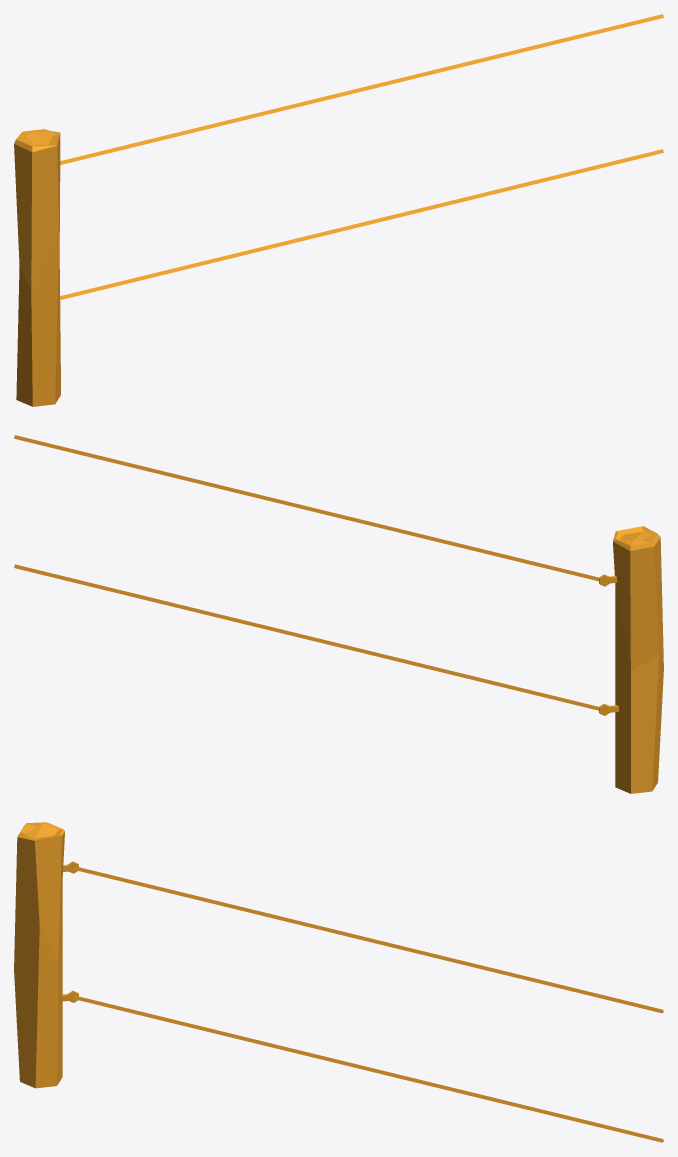
Rendered from SM_Fence_Electric_3m_A.fbx.
The picture shows the model from 3 angles, top to bottom: view 1: azimuth 30°, elevation 25°; view 2: azimuth 150°, elevation 25°; view 3: azimuth 330°, elevation 25°; orthographic projection. The views are drawn at different scales.
Parts seen in each view (by area): view 1: fence-electric-3m-a; view 2: fence-electric-3m-a; view 3: fence-electric-3m-a.
Part boxes in pixels (left/top/right/bottom): fence-electric-3m-a: left=14, top=14, right=663, bottom=406; fence-electric-3m-a: left=14, top=435, right=663, bottom=793; fence-electric-3m-a: left=14, top=822, right=663, bottom=1142.
Bounding box in the file's own units: 3.21 × 1.22 × 0.2323.
